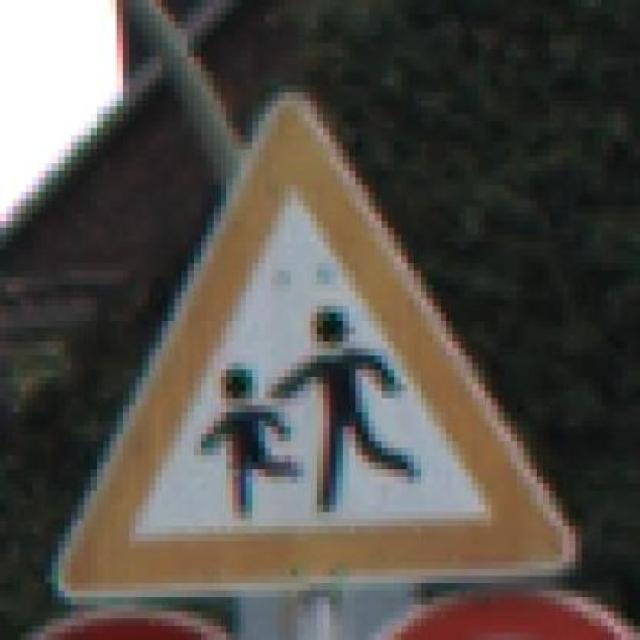Beware of children: (46, 71, 588, 597)
